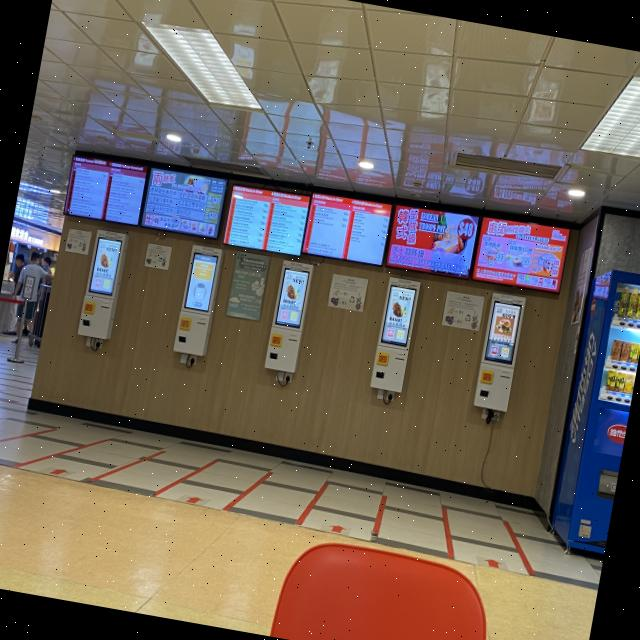orderKiosk: (472, 291, 526, 412), (368, 274, 420, 394), (172, 245, 225, 358), (264, 257, 314, 374), (77, 227, 128, 341)
